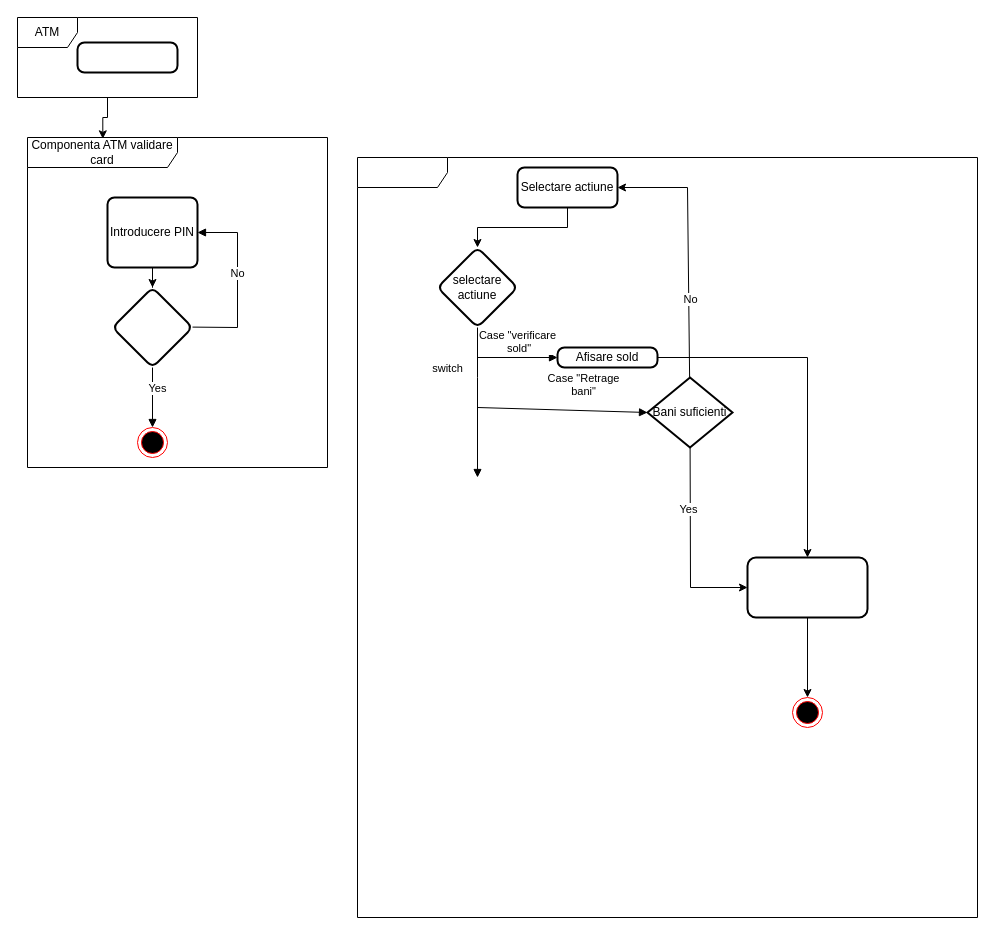
This 995x935 diagram has some shape labels left out. The shapes that lost their labels are listed below. From the top down, each one's box as (x1, y1, x2, y2) in pixels, then its label:
(76, 41, 178, 73): Idle
(111, 286, 193, 368): PIN ok
(356, 156, 978, 918): sm Menu Input
(746, 556, 868, 618): Tiparire chitanta
